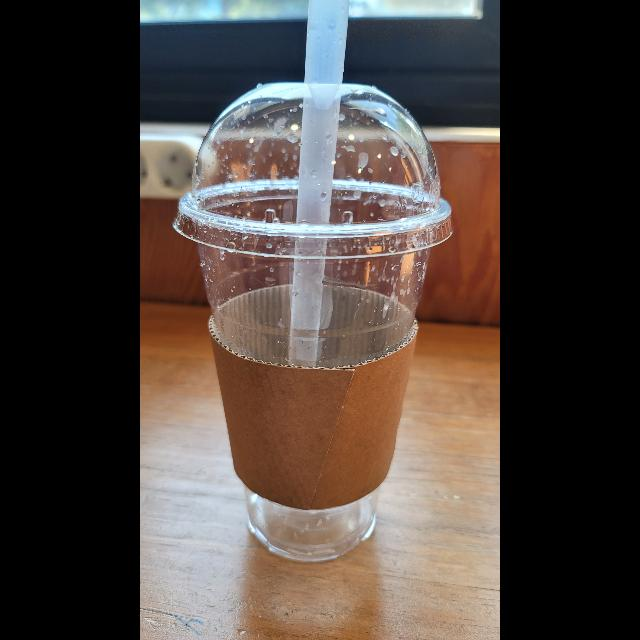plastic_cup: (176, 80, 456, 568)
plastic_cup_lid: (172, 78, 456, 262)
straw: (288, 1, 350, 366)
